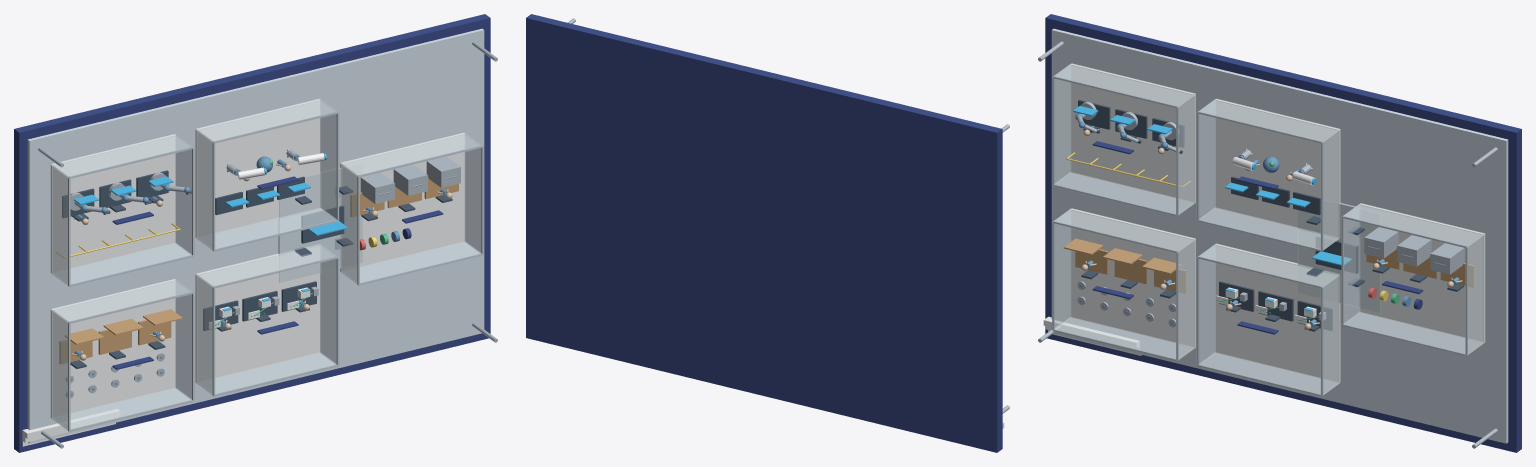
Rendered from gyantrika_innovation_hub.glb.
3 views of the same model, side by side, from view 1: azimuth 30°, elevation 25°; view 2: azimuth 150°, elevation 25°; view 3: azimuth 330°, elevation 25° (orthographic).
Visible parts, largest first — view 1: world; view 2: world; view 3: world.
Boxes of the visible parts, x1,y1,x2,y2 form: world: (14,14,497,452); world: (526,14,1009,452); world: (1038,14,1521,452).
Size of the model in its own units: 22.8 by 14.8 by 2.62.
